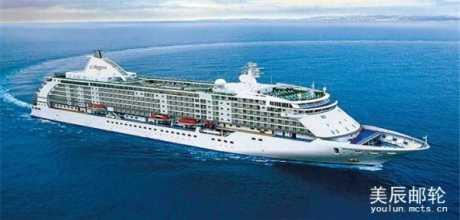youlun: (27, 41, 431, 158)
